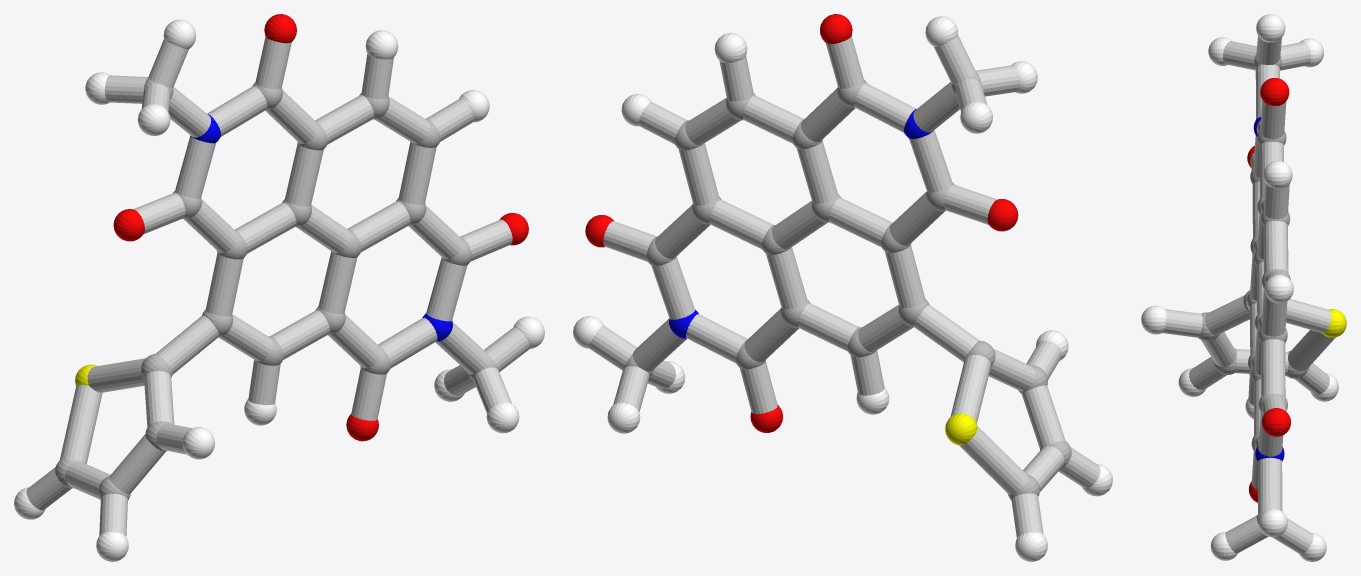
The model's file is Dimethyl_Naphthalene_Dicarboximide_Phi_30_Theta_270_Thiophene.glb.
The picture shows the model from 3 angles, left to right: view 1: azimuth 30°, elevation 25°; view 2: azimuth 150°, elevation 25°; view 3: azimuth 270°, elevation 25°; orthographic projection. The views are drawn at different scales.
Parts seen in each view (by area): view 1: grp14119, grp7241, grp1, grp12309, grp11585; view 2: grp14119, grp7241, grp1, grp12309, grp13757, grp11585; view 3: grp14119, grp7241, grp1, grp12309, grp13757.
Part boxes in pixels (x1,y1,x2,y2): grp14119: [26, 36, 530, 536]; grp7241: [14, 19, 544, 561]; grp1: [55, 78, 497, 499]; grp12309: [113, 14, 528, 441]; grp11585: [190, 114, 452, 341]; grp14119: [589, 35, 1100, 537]; grp7241: [573, 16, 1112, 561]; grp1: [624, 71, 1071, 500]; grp12309: [585, 14, 1018, 432]; grp13757: [945, 413, 977, 445]; grp11585: [669, 109, 932, 338]; grp14119: [1162, 36, 1335, 554]; grp7241: [1141, 14, 1338, 561]; grp1: [1198, 54, 1309, 523]; grp12309: [1247, 78, 1290, 502]; grp13757: [1322, 309, 1346, 337].
Size of the model in its own units: 10.55 by 9.93 by 4.23.
